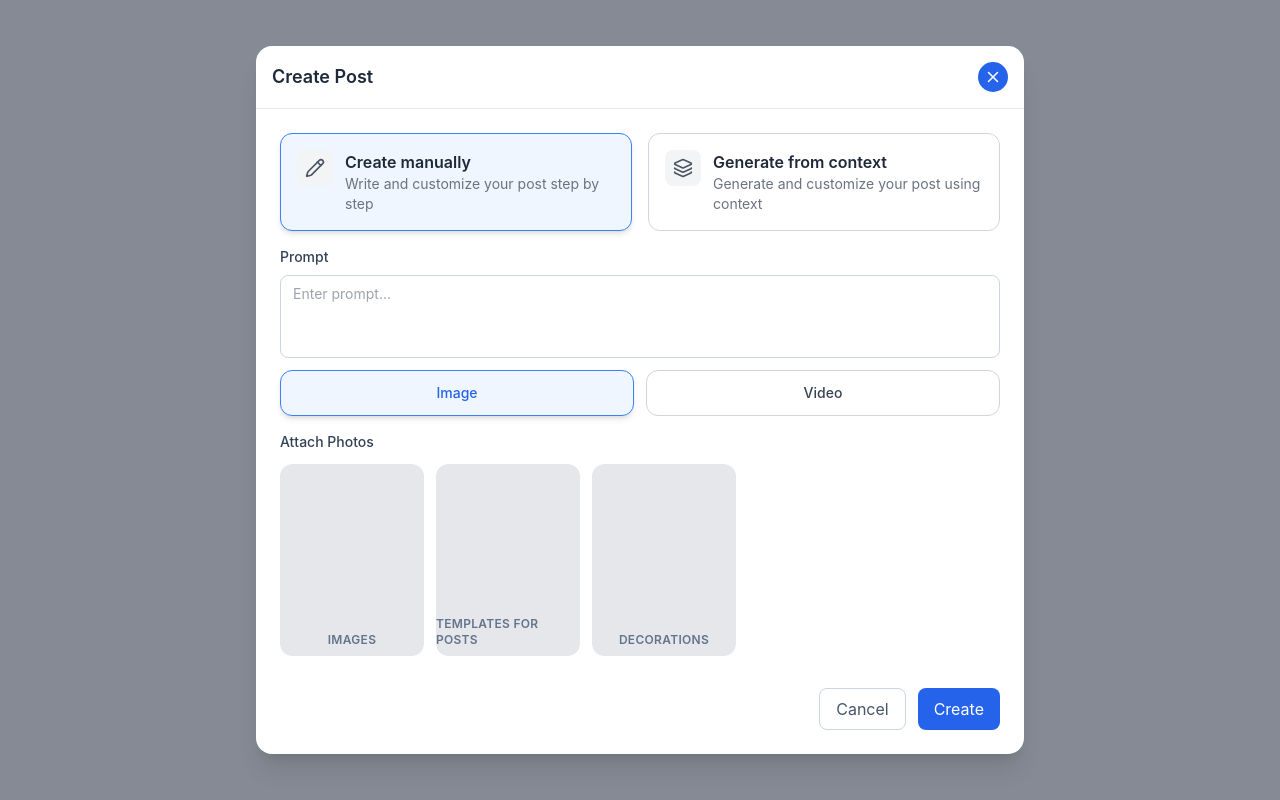
CreateCreativeDlg — mediaType radio group › deselects Photo when Video is clicked
This screenshot has width=1280, height=800.
Step 1. Click the radio button labelled "Video" → (823, 393), box [646,370,1000,416]
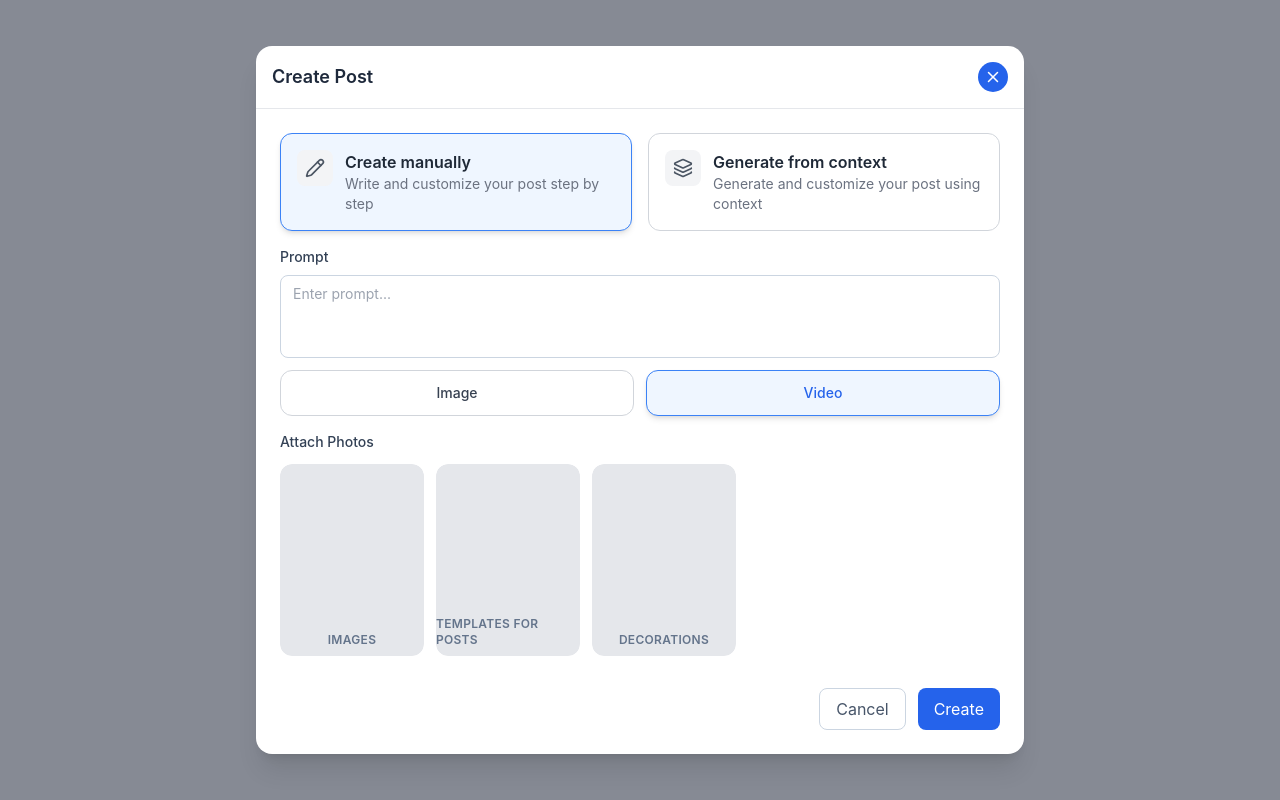
expect the radio button labelled "Image" is not checked: met, box [280,370,634,416]
